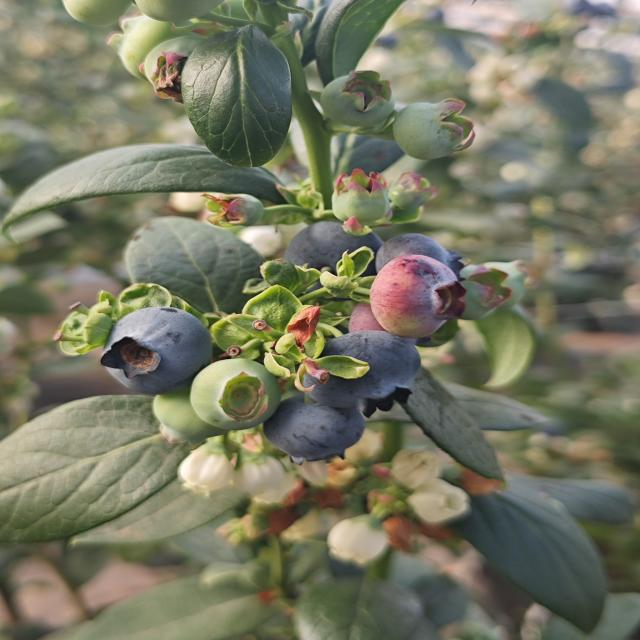ripe: (96, 304, 216, 397), (296, 329, 424, 416), (259, 393, 368, 465), (291, 218, 372, 264), (378, 228, 459, 273)
